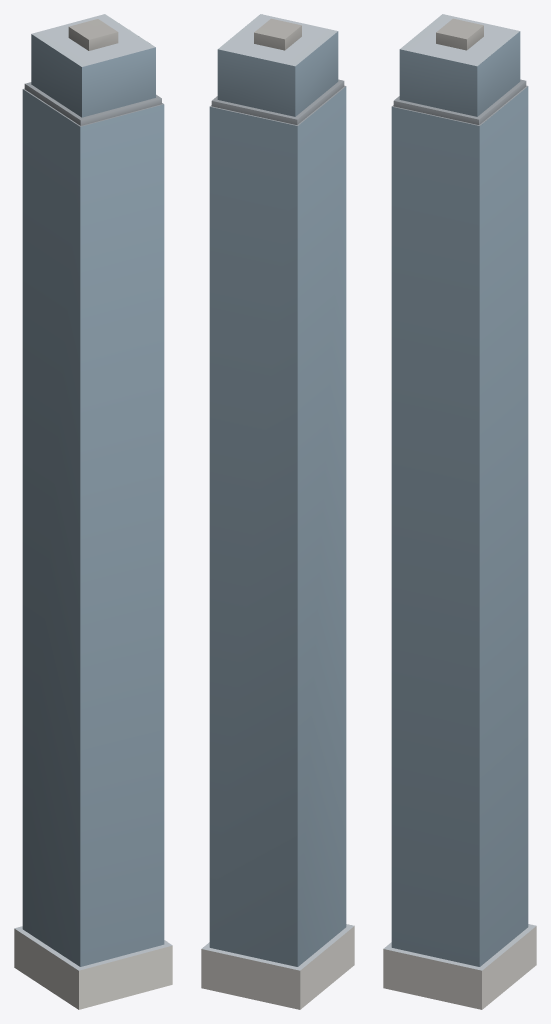
File: tower_03.glb
3 renders of one model, left to right at view 1: azimuth 30°, elevation 25°; view 2: azimuth 150°, elevation 25°; view 3: azimuth 330°, elevation 25°, orthographic.
Visible parts, largest first — view 1: tower_03; view 2: tower_03; view 3: tower_03.
Boxes of the visible parts, bbox=[...] form: tower_03: bbox=[14, 14, 172, 1009]; tower_03: bbox=[201, 14, 354, 1009]; tower_03: bbox=[383, 14, 536, 1009].
Bounding box in the file's own units: 37.9 × 338 × 40.11.
